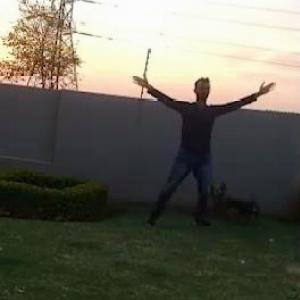takeoff: (133, 76, 262, 221)
